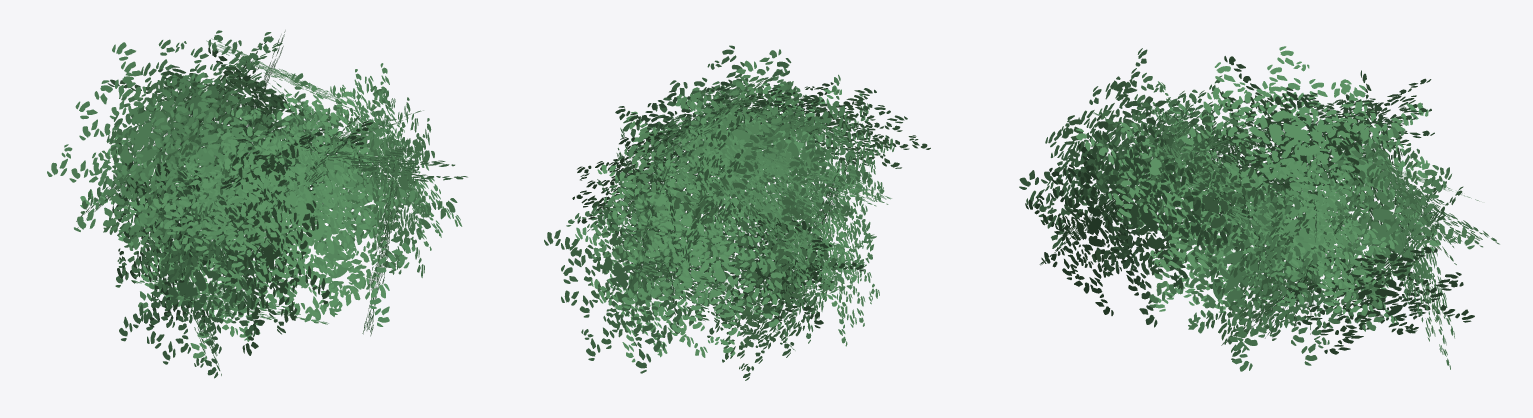
The model's file is Bush1.fbx.
3 views of the same model, side by side, from view 1: azimuth 30°, elevation 25°; view 2: azimuth 150°, elevation 25°; view 3: azimuth 270°, elevation 25° (orthographic). The views are drawn at different scales.
Visible parts, largest first — view 1: Plane.101; view 2: Plane.101; view 3: Plane.101.
Boxes of the visible parts, x1,y1,x2,y2 form: Plane.101: (47, 30, 467, 378); Plane.101: (544, 45, 930, 380); Plane.101: (1019, 46, 1499, 371).
Bounding box in the file's own units: 246 × 242 × 299.
